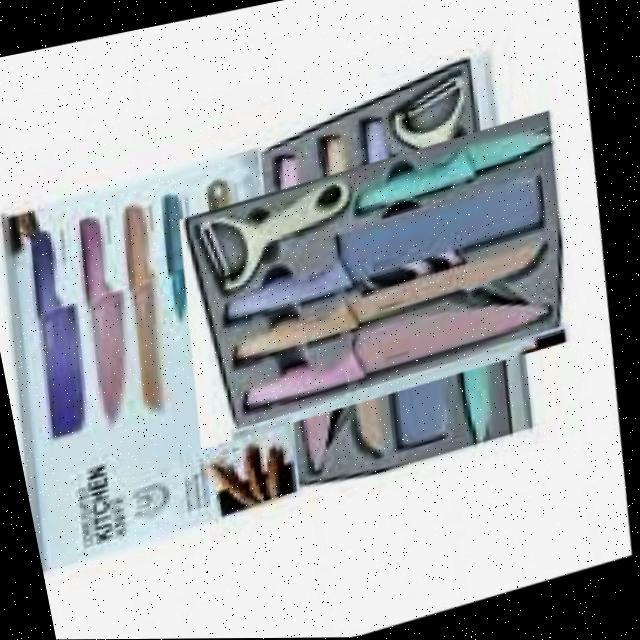knife: (206, 170, 559, 326), (223, 238, 556, 362), (230, 290, 556, 412), (10, 225, 102, 438), (349, 123, 560, 214), (68, 211, 148, 428), (106, 201, 184, 419)
